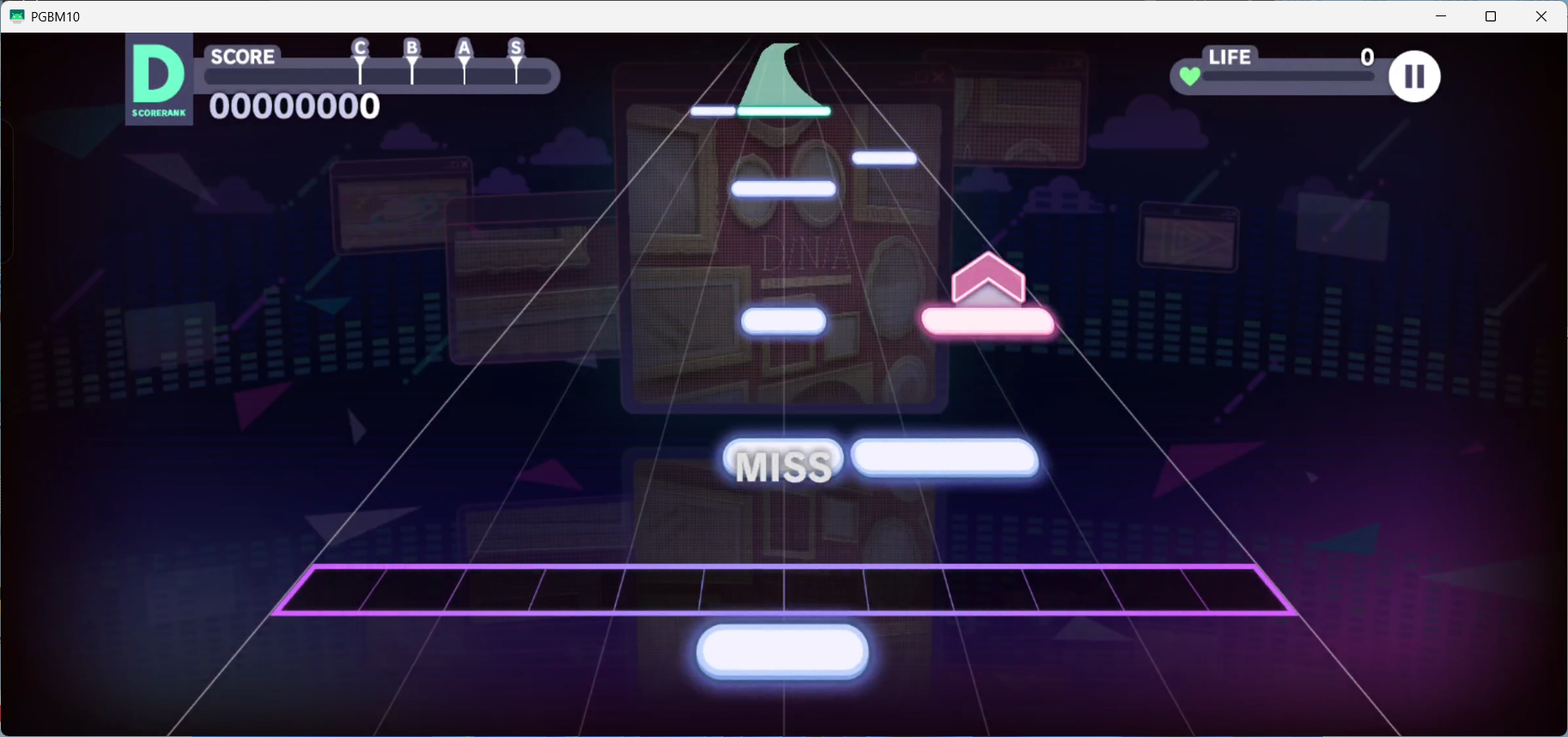flick: (951, 251, 1024, 308)
hold: (739, 44, 823, 106)
tap: (696, 625, 868, 680), (850, 438, 1038, 478), (723, 438, 845, 476), (922, 308, 1055, 335), (740, 308, 827, 335), (731, 180, 836, 197), (852, 150, 916, 165), (737, 106, 830, 116), (690, 106, 736, 117)
